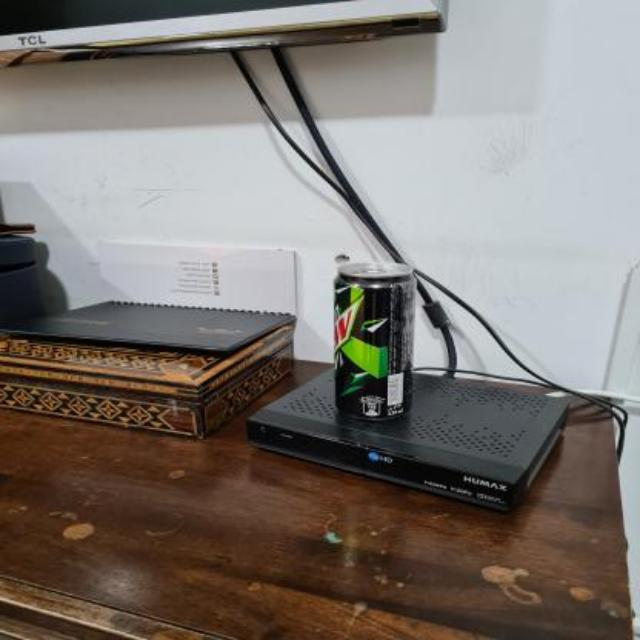metal: (337, 257, 415, 418)
